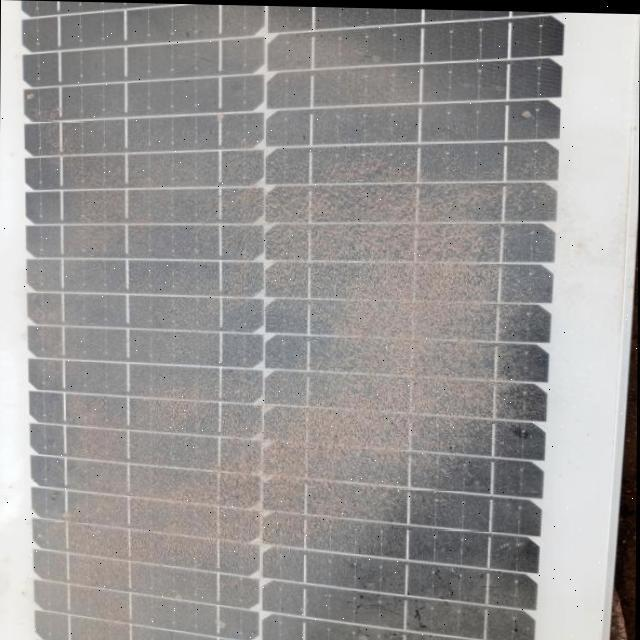Surface Contaminant: (18, 12, 536, 640)
